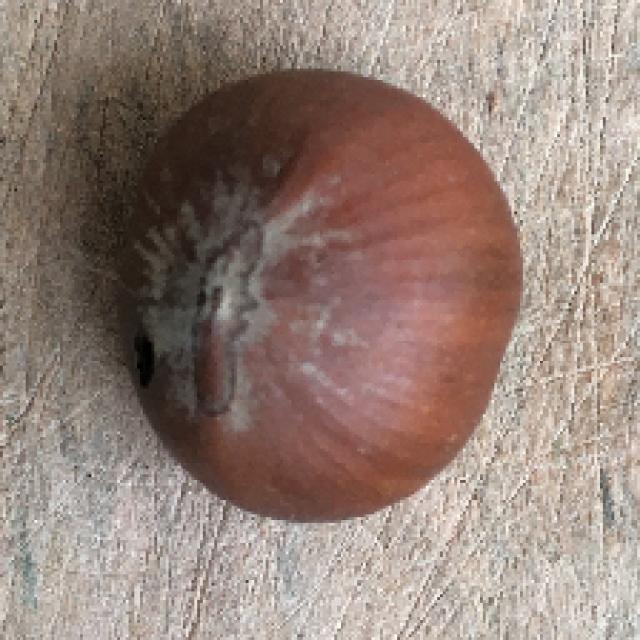damagedHazelnut: (123, 62, 517, 524)
